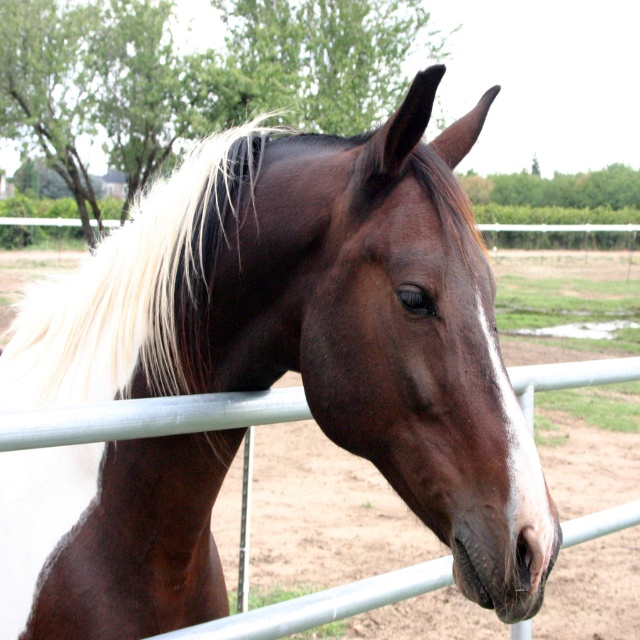Horse: (0, 64, 566, 640)
